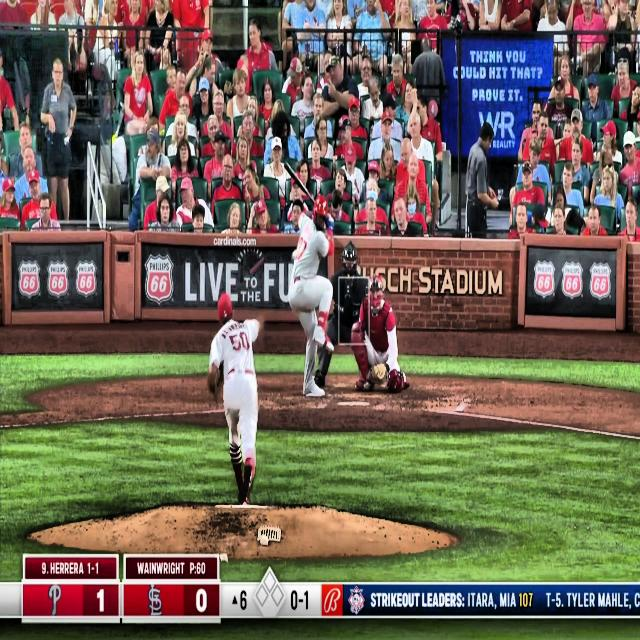baseball: (291, 248, 299, 262)
